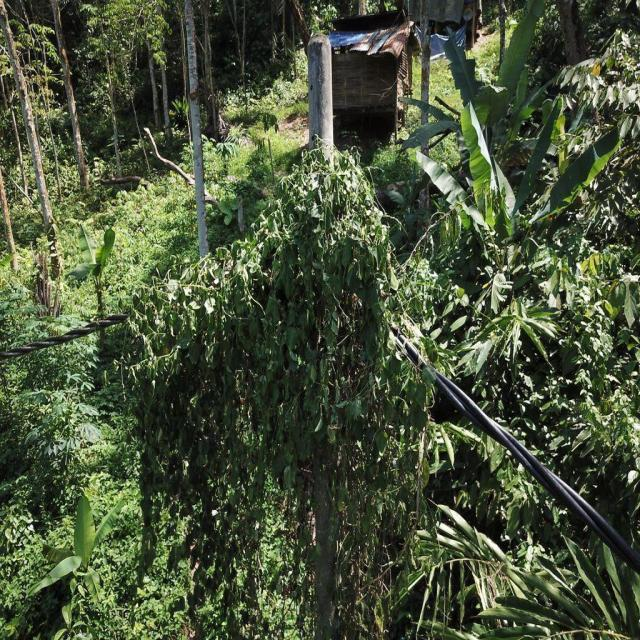critical vegetation: (123, 128, 456, 612)
